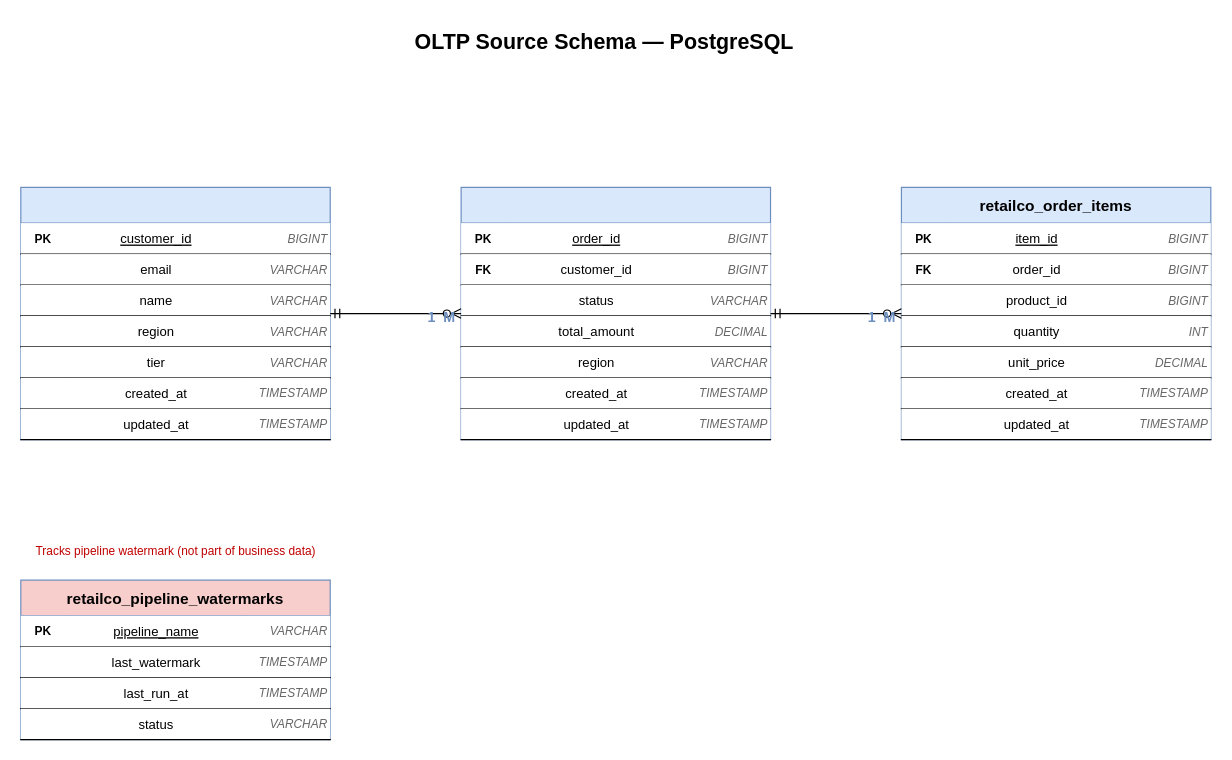
Image size: 1232x760. Some labels were removed from this diagram. Each missing label, with the box of its shape:
retailco_customers: (20, 186, 330, 440)
retailco_orders: (460, 186, 771, 440)
